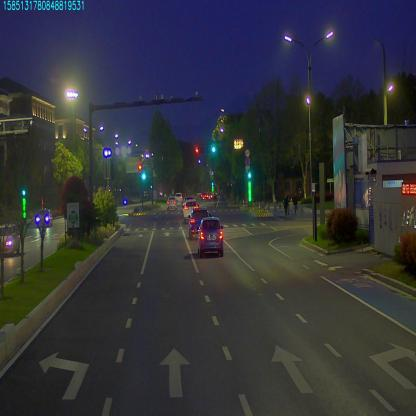traffic-light: (209, 144, 216, 154), (195, 146, 201, 154)
